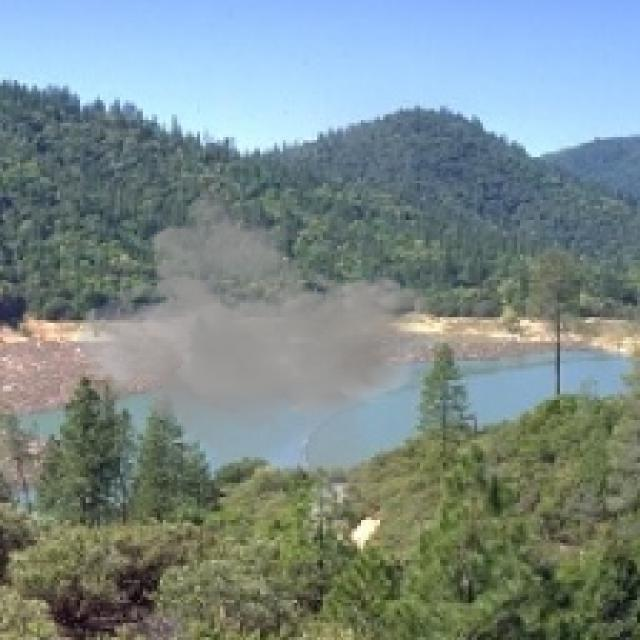Smoke: (77, 183, 432, 526)
